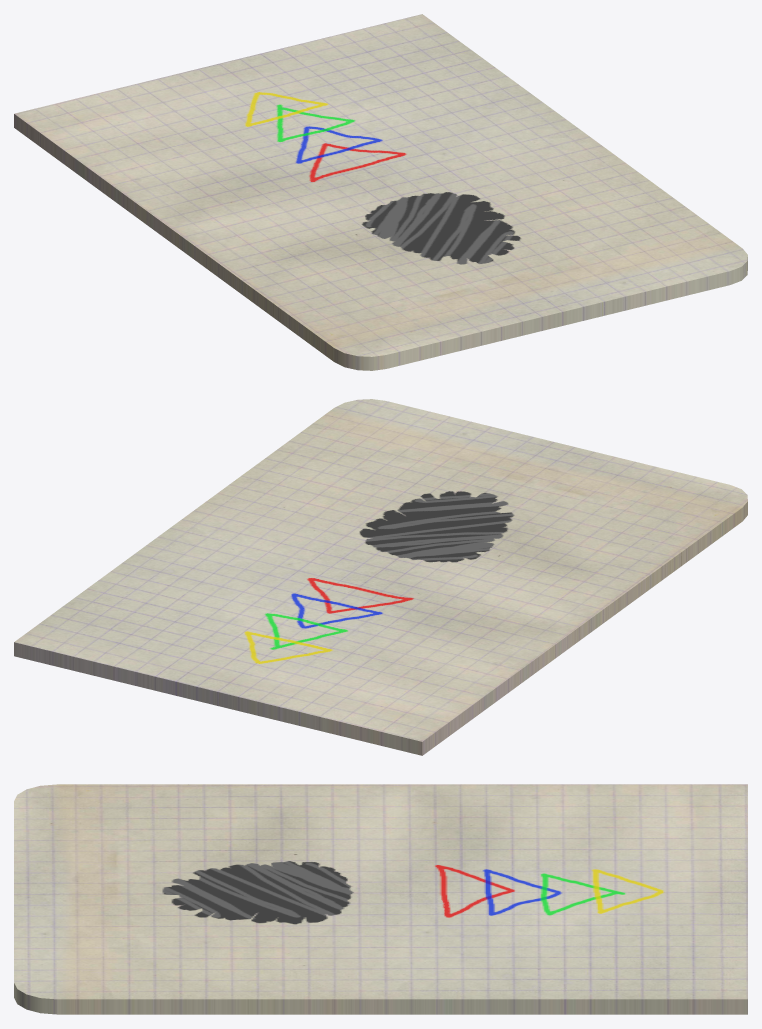
Rendered from Hint_Paper.FBX.
3 views of the same model, one above another, from view 1: azimuth 30°, elevation 25°; view 2: azimuth 150°, elevation 25°; view 3: azimuth 270°, elevation 25° (orthographic). The views are drawn at different scales.
Visible parts, largest first — view 1: GRAPH_PAPER-PAD; view 2: GRAPH_PAPER-PAD; view 3: GRAPH_PAPER-PAD.
Part boxes in pixels (left/top/right/bottom): GRAPH_PAPER-PAD: left=14, top=14, right=747, bottom=370; GRAPH_PAPER-PAD: left=14, top=399, right=747, bottom=755; GRAPH_PAPER-PAD: left=14, top=784, right=747, bottom=1014.
Size of the model in its own units: 62.69 by 2.06 by 90.47.
1 material, 1 textured.
